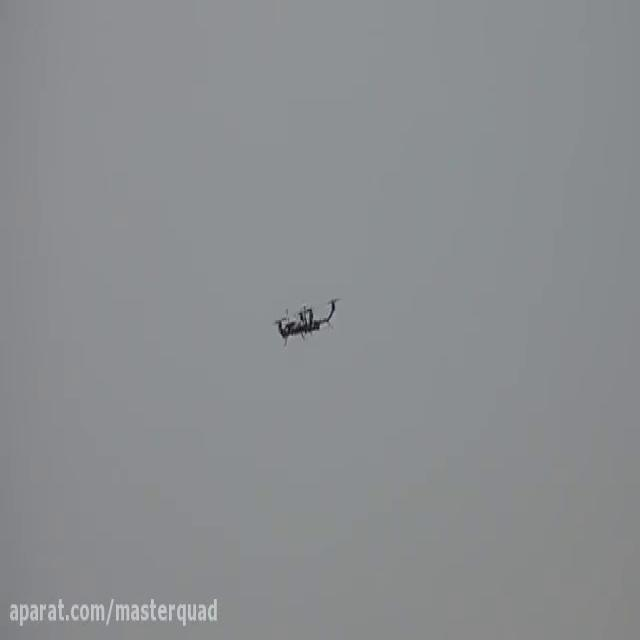drone: (267, 284, 345, 350)
